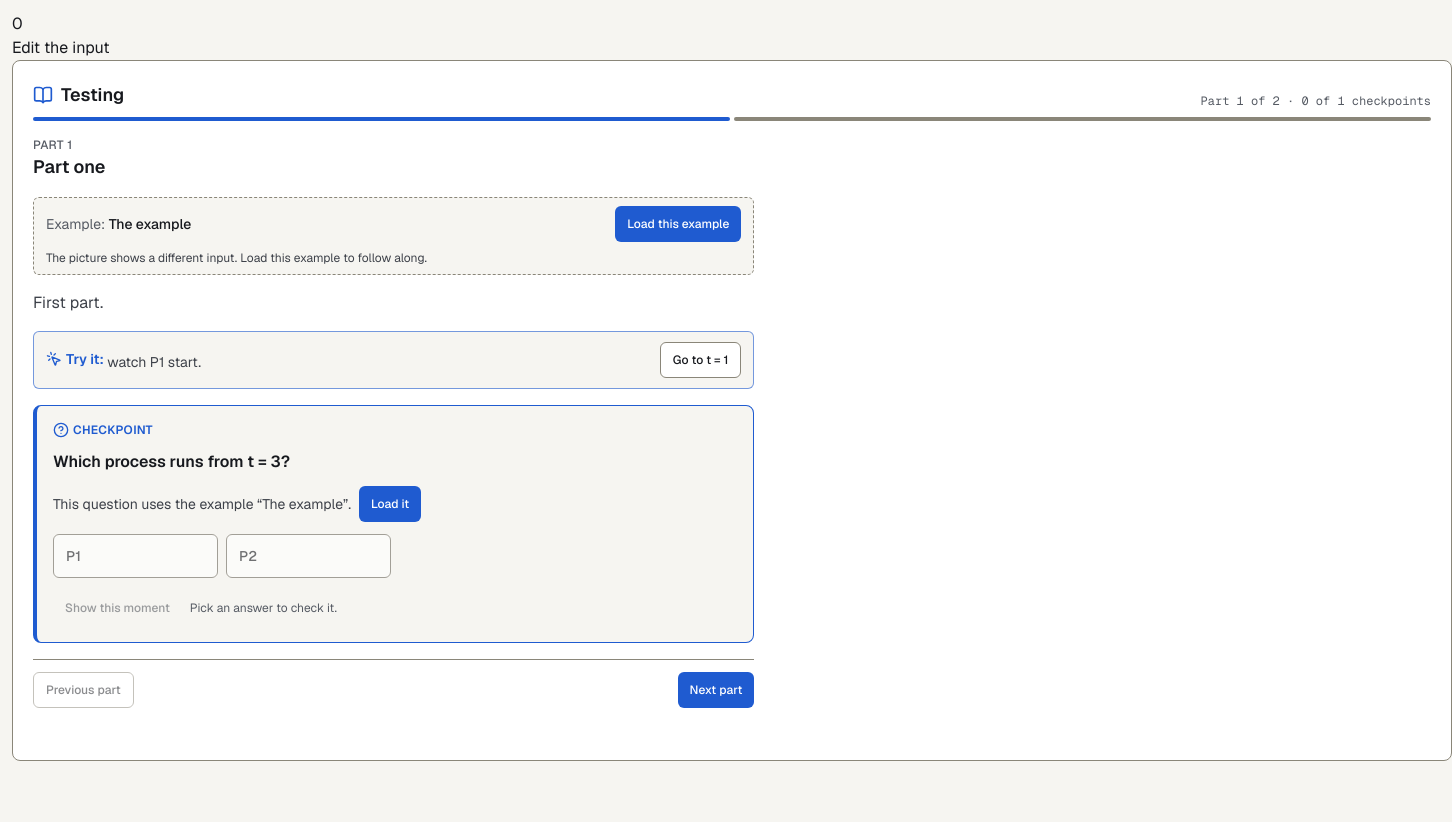
Walkthrough › without auto-load, asks with answer buttons that wait for the example
The image size is (1452, 822).
Expected: the button "P2" is disabled, [226,534,391,578]
Click the button "Load it": (390, 504) [359,486,421,522]
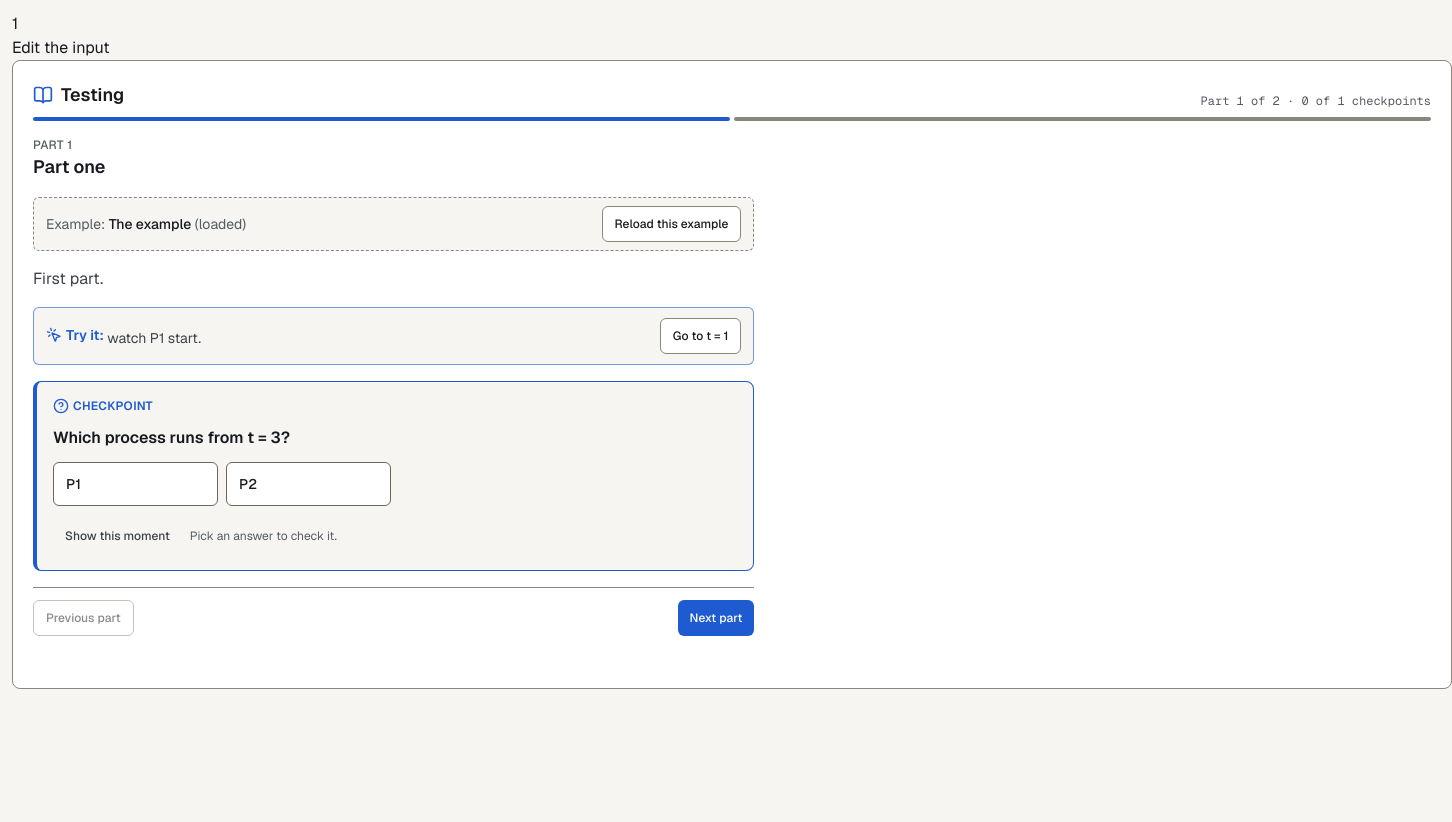
Now the button "P2" is enabled, box [226,462,391,506]
